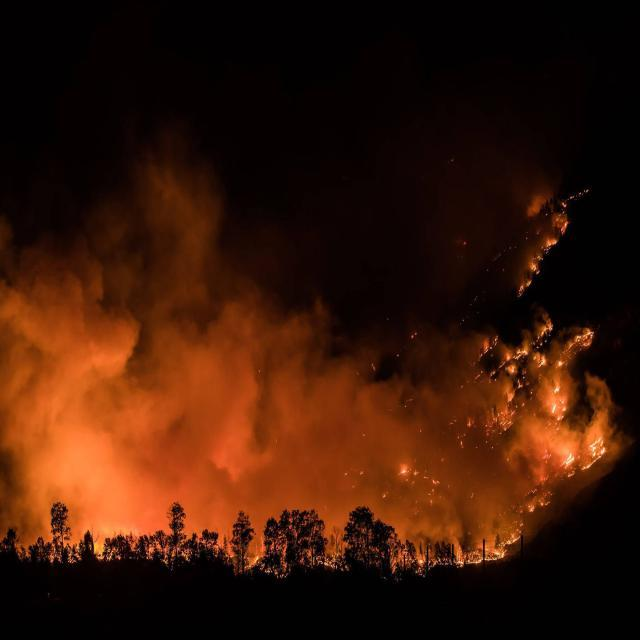Fire: (378, 366, 626, 574)
Smoke: (0, 188, 636, 579)
